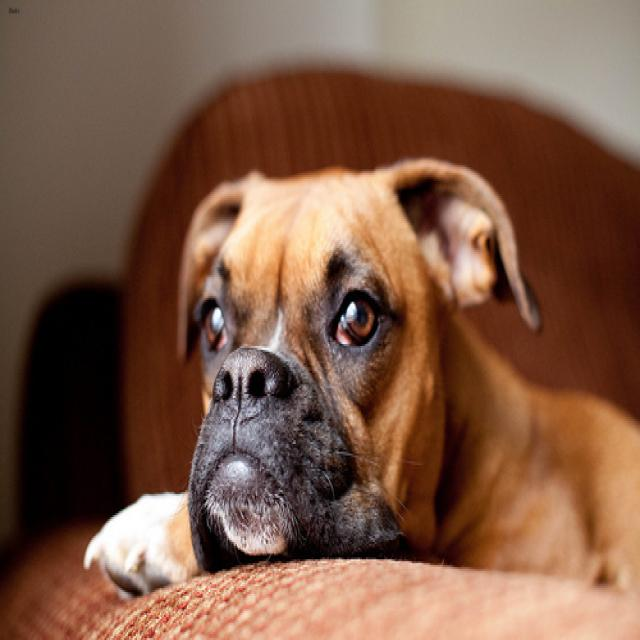dog-boxer: (73, 148, 637, 615)
